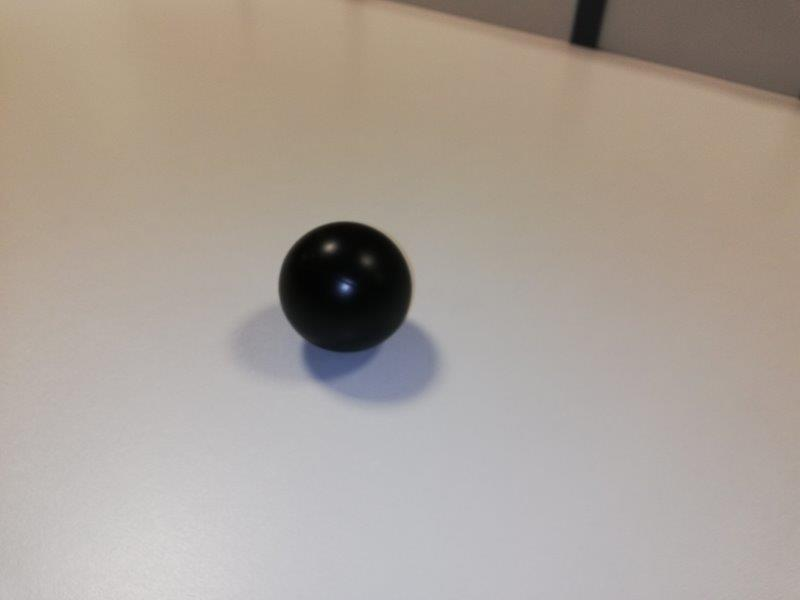nera: (281, 218, 411, 356)
